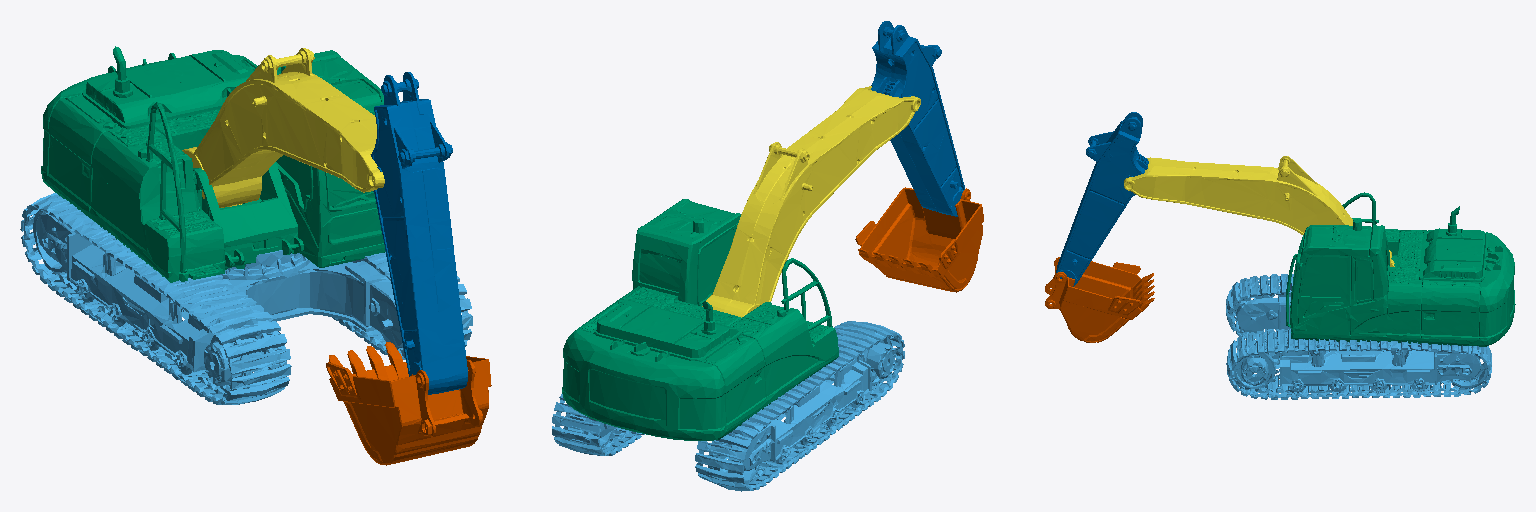
The robot description file, URDF, robot "excavator_scan_model":
<?xml version="1.0" ?>
<robot name="excavator_scan_model">

  <link name="base_link">
    <inertial>
      <mass value="1.0"/>
      <origin xyz="0 0 0" rpy="0 0 0"/>
      <inertia ixx="0.01" ixy="0.0" ixz="0.0" iyy="0.01" iyz="0.0" izz="0.01"/>
    </inertial>
    <visual>
      <geometry>
        <box size="0.01 0.01 0.01"/>
      </geometry>
    </visual>
    <collision>
      <geometry>
        <box size="0.01 0.01 0.01"/>
      </geometry>
    </collision>
  </link>

  <joint name="base_joint" type="fixed">
    <parent link="base_link"/>
    <child link="track_link"/>
    <origin xyz="0 0 0.054" rpy="0 0 0"/>
  </joint>

  <link name="track_link">
    <inertial>
      <mass value="0.30"/>
      <origin xyz="0 0 0" rpy="0 0 0"/>
      <inertia ixx="0.002" ixy="0.0" ixz="0.0" iyy="0.002" iyz="0.0" izz="0.002"/>
    </inertial>
    <visual>
      <origin xyz="0 0 0" rpy="0 0 0"/>
      <geometry>
        <mesh filename="./meshes/Bottom.obj" scale="1 1 1"/>
      </geometry>
    </visual>
    <collision>
      <origin xyz="0 0 0" rpy="0 0 0"/>
      <geometry>
        <box size="0.20 0.12 0.05"/>
      </geometry>
    </collision>
  </link>

  <joint name="swing_joint" type="continuous">
    <parent link="track_link"/>
    <child link="body_link"/>
    <origin xyz="0 0 0" rpy="0 0 0"/>
    <axis xyz="0 0 1"/>
  </joint>

  <link name="body_link">
    <inertial>
      <mass value="0.15"/>
      <origin xyz="0 0 0" rpy="0 0 0"/>
      <inertia ixx="0.0005" ixy="0.0" ixz="0.0" iyy="0.0005" iyz="0.0" izz="0.0005"/>
    </inertial>
    <visual>
      <origin xyz="0 0 0" rpy="0 0 0"/>
      <geometry>
        <mesh filename="./meshes/Body.obj" scale="1 1 1"/>
      </geometry>
    </visual>
    <collision>
      <origin xyz="0 0 0" rpy="0 0 0"/>
      <geometry>
        <box size="0.12 0.08 0.06"/>
      </geometry>
    </collision>
  </link>

  <joint name="boom_joint" type="revolute">
    <parent link="body_link"/>
    <child link="boom_link"/>
    <origin xyz="-0.012 -0.005 0.027" rpy="0 0 0"/>
    <axis xyz="1 0 0"/>
    <limit lower="-1.5" upper="0.5" effort="5" velocity="2.0"/>
  </joint>

  <link name="boom_link">
    <inertial>
      <mass value="0.08"/>
      <origin xyz="0 0 0" rpy="0 0 0"/>
      <inertia ixx="0.0002" ixy="0.0" ixz="0.0" iyy="0.0002" iyz="0.0" izz="0.0002"/>
    </inertial>
    <visual>
      <origin xyz="0 0 0" rpy="0 0 0"/>
      <geometry>
        <mesh filename="./meshes/Boom.obj" scale="1 1 1"/>
      </geometry>
    </visual>
    <collision>
      <origin xyz="0.05 0 0.02" rpy="0 0 0"/>
      <geometry>
        <box size="0.14 0.03 0.03"/>
      </geometry>
    </collision>
  </link>

  <joint name="arm_joint" type="revolute">
    <parent link="boom_link"/>
    <child link="arm_link"/>
    <origin xyz="-0.010 -0.22 0.102" rpy="0 0 0"/>
    <axis xyz="1 0 0"/>
    <limit lower="-1.5" upper="1.5" effort="5" velocity="2.0"/>
  </joint>

  <link name="arm_link">
    <inertial>
      <mass value="0.05"/>
      <origin xyz="0 0 0" rpy="0 0 0"/>
      <inertia ixx="0.0001" ixy="0.0" ixz="0.0" iyy="0.0001" iyz="0.0" izz="0.0001"/>
    </inertial>
    <visual>
      <origin xyz="0 0 0" rpy="0 0 0"/>
      <geometry>
        <mesh filename="./meshes/Arm.obj" scale="1 1 1"/>
      </geometry>
    </visual>
    <collision>
      <origin xyz="0.04 0 0.015" rpy="0 0 0"/>
      <geometry>
        <box size="0.10 0.025 0.025"/>
      </geometry>
    </collision>
  </link>

  <joint name="bucket_joint" type="revolute">
    <parent link="arm_link"/>
    <child link="bucket_link"/>
    <origin xyz="-0.007 -0.064 -0.095" rpy="0 0 0"/>
    <axis xyz="1 0 0"/>
    <limit lower="-1.5" upper="1.5" effort="5" velocity="2.0"/>
  </joint>

  <link name="bucket_link">
    <inertial>
      <mass value="0.03"/>
      <origin xyz="0 0 0" rpy="0 0 0"/>
      <inertia ixx="0.00005" ixy="0.0" ixz="0.0" iyy="0.00005" iyz="0.0" izz="0.00005"/>
    </inertial>
    <visual>
      <origin xyz="0 0 0" rpy="0 0 0"/>
      <geometry>
        <mesh filename="./meshes/Bucket.obj" scale="1 1 1"/>
      </geometry>
    </visual>
    <collision>
      <origin xyz="0 0 0" rpy="0 0 0"/>
      <geometry>
        <box size="0.08 0.05 0.04"/>
      </geometry>
    </collision>
  </link>

</robot>

--- Facts derived from the render (not from the file) ---
The picture shows the robot from 3 angles, left to right: view 1: azimuth 30°, elevation 25°; view 2: azimuth 150°, elevation 25°; view 3: azimuth 270°, elevation 25°; orthographic projection.
Robot: excavator_scan_model — 6 links, 5 joints (3 revolute, 1 continuous, 1 fixed); root link base_link; default pose: every joint at zero.
Visible links, largest first — view 1: body_link, track_link, arm_link, boom_link, bucket_link; view 2: body_link, track_link, boom_link, arm_link, bucket_link; view 3: body_link, track_link, boom_link, arm_link, bucket_link.
Link boxes in pixels (x1=…): body_link: x1=41, y1=46, x2=385, y2=282; track_link: x1=20, y1=193, x2=472, y2=404; arm_link: x1=371, y1=72, x2=467, y2=394; boom_link: x1=182, y1=48, x2=384, y2=207; bucket_link: x1=326, y1=342, x2=491, y2=465; body_link: x1=562, y1=199, x2=838, y2=440; track_link: x1=552, y1=321, x2=904, y2=491; boom_link: x1=702, y1=86, x2=920, y2=317; arm_link: x1=871, y1=21, x2=964, y2=216; bucket_link: x1=855, y1=187, x2=983, y2=292; body_link: x1=1286, y1=192, x2=1515, y2=346; track_link: x1=1226, y1=274, x2=1491, y2=399; boom_link: x1=1124, y1=156, x2=1394, y2=266; arm_link: x1=1056, y1=112, x2=1148, y2=286; bucket_link: x1=1045, y1=257, x2=1154, y2=342.
Bounding box of the posed robot: 0.1722 × 0.452 × 0.2594 m (x, y, z).
5 mesh visuals loaded from 5 distinct referenced files (5 OBJ).
